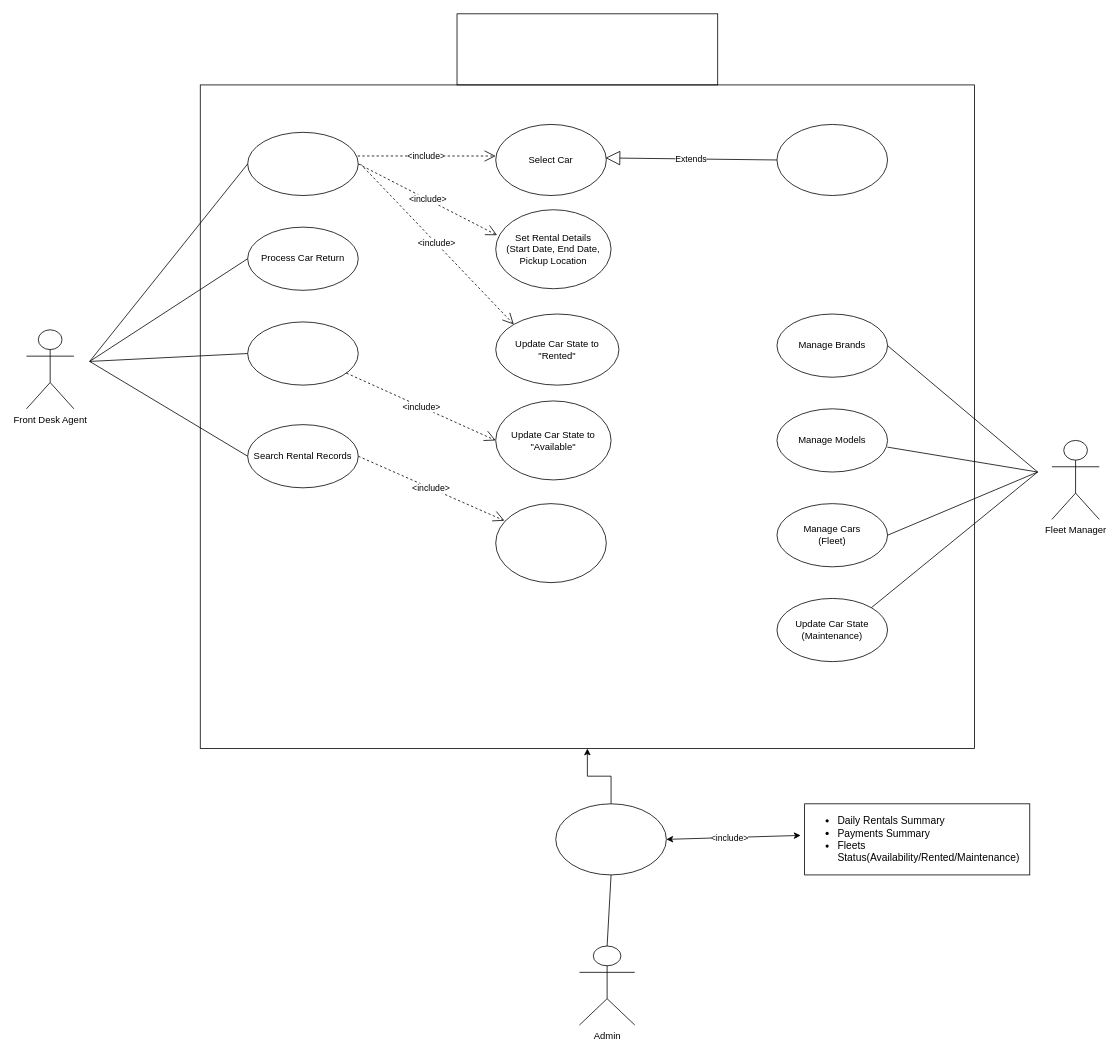
Image size: 1119x1055. Some labels were removed from this diagram. The centre of each missing label's shape, as x and y in pixels:
"CAR RENTAL SYSTEM" belongs at (587,49).
"Check Car Availability" belongs at (832,160).
"Create Rental Booking" belongs at (302,164).
"Link Payment to Rental" belongs at (550,543).
"Record Payment" belongs at (302,353).
"View Reports (Rentals & Payments)" belongs at (610,839).
